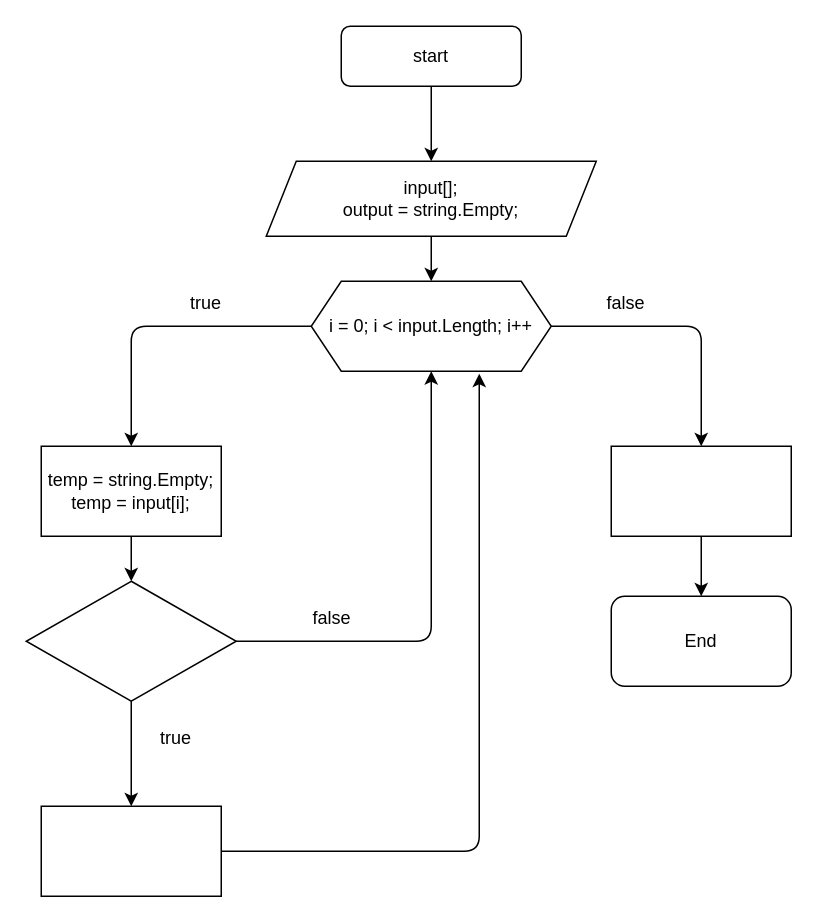
Image size: 818x923. Some labels were removed from this diagram. Here are the shapes that lost their labels. From the top down, the centre of each, then its label:
At point (700, 490): "print output".
At point (130, 640): "temp.Lengh <= 3".
At point (130, 850): "output = output + temp".
